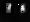person: (21, 4, 27, 14), (7, 4, 12, 14)
